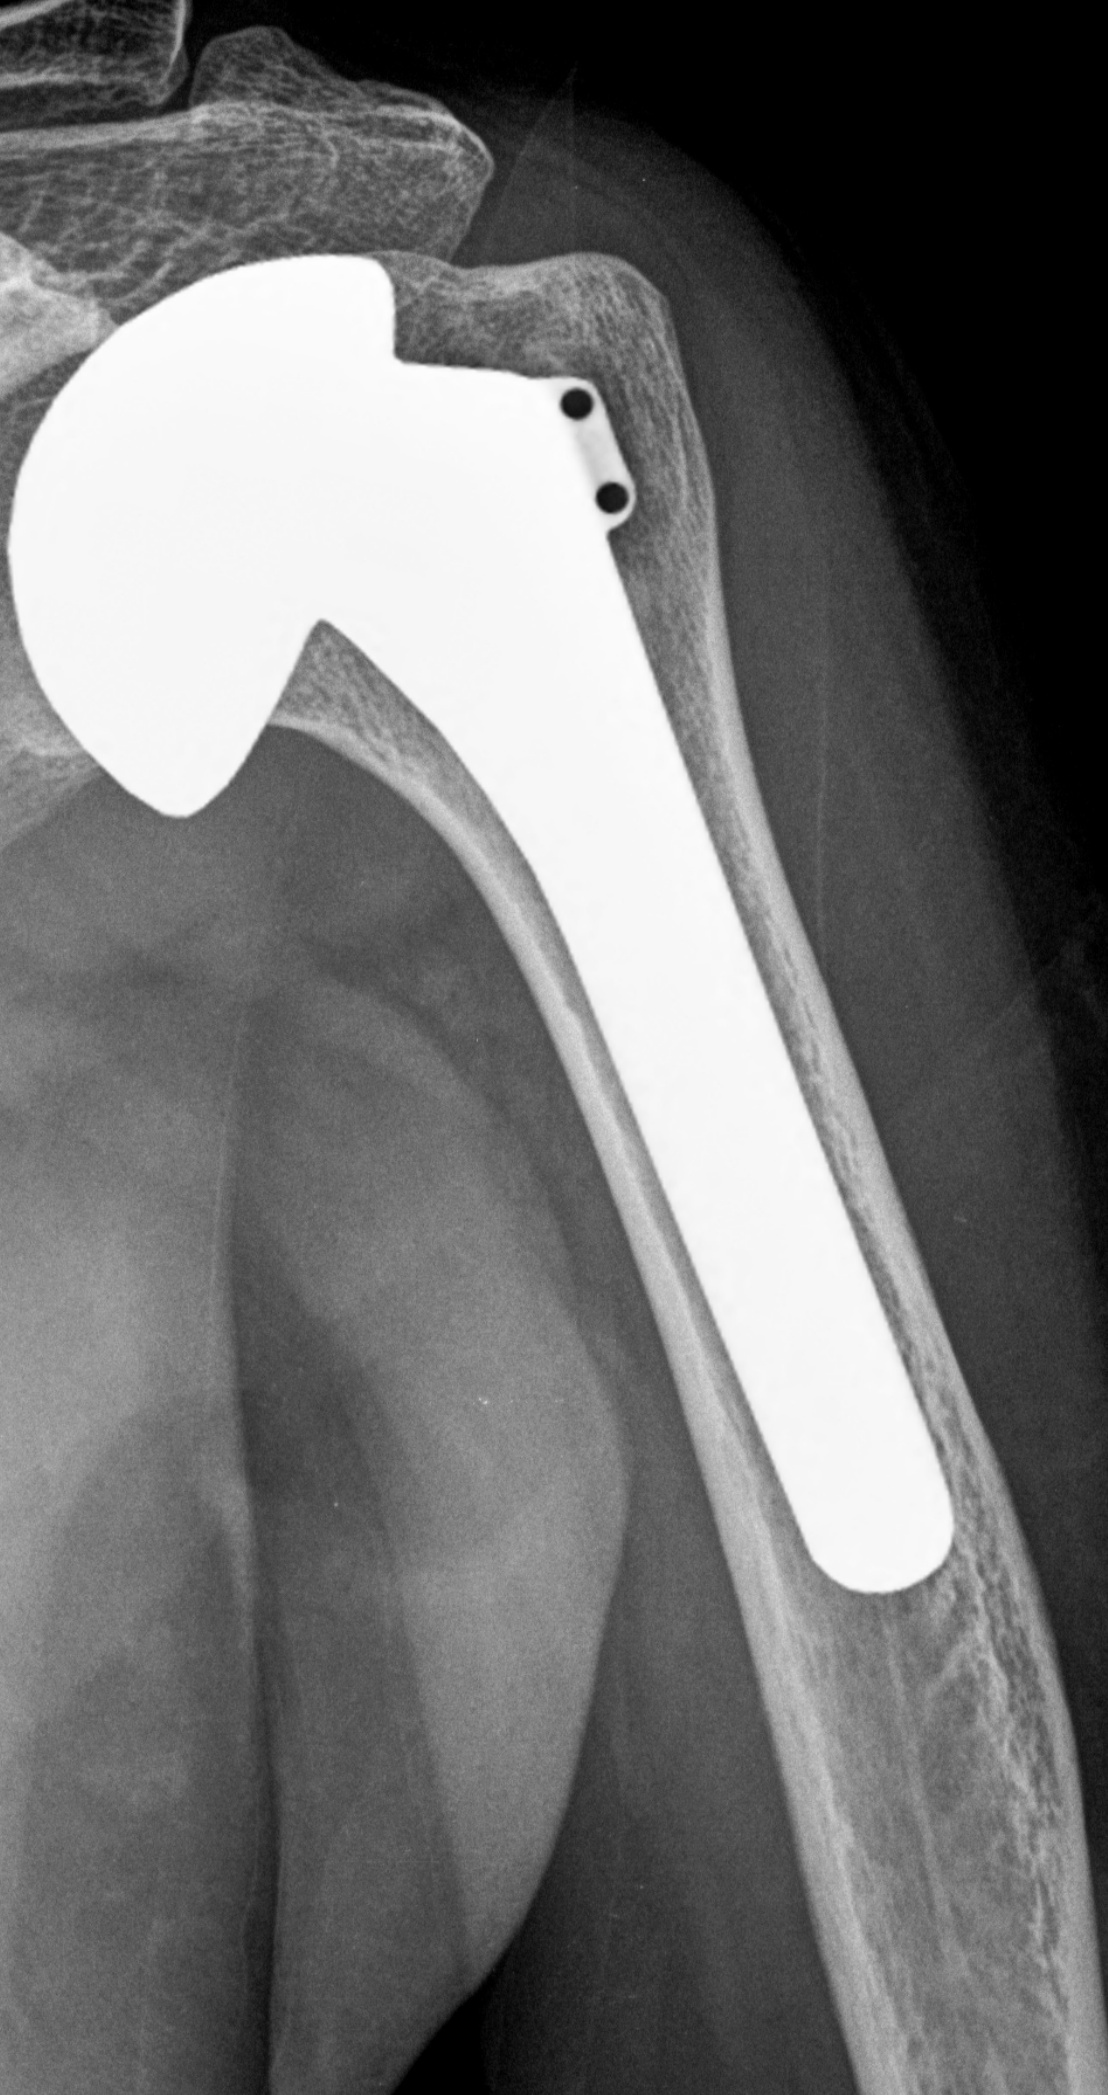Shoulder - AequalisPressfit - Tornier: (3, 209, 681, 833)
